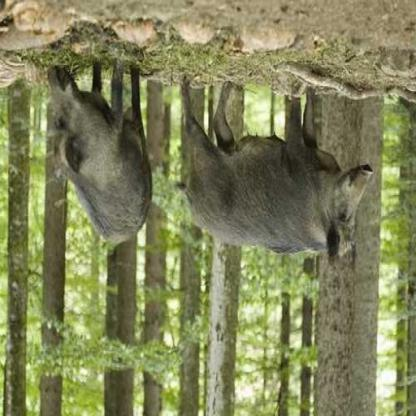boar: (163, 32, 415, 254), (22, 64, 187, 264)
